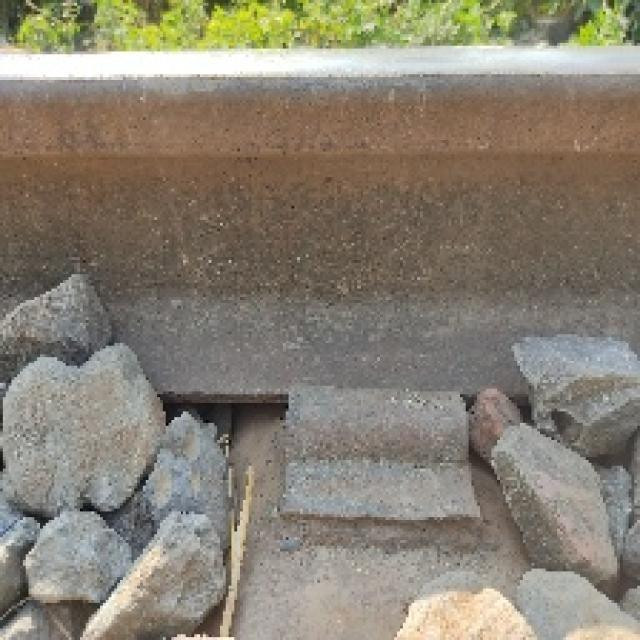Missing Fastener: (252, 377, 515, 553)
